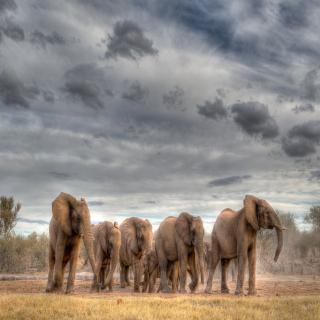Elephant: (205, 193, 288, 300), (46, 189, 98, 297), (153, 210, 207, 297), (91, 217, 123, 297)
